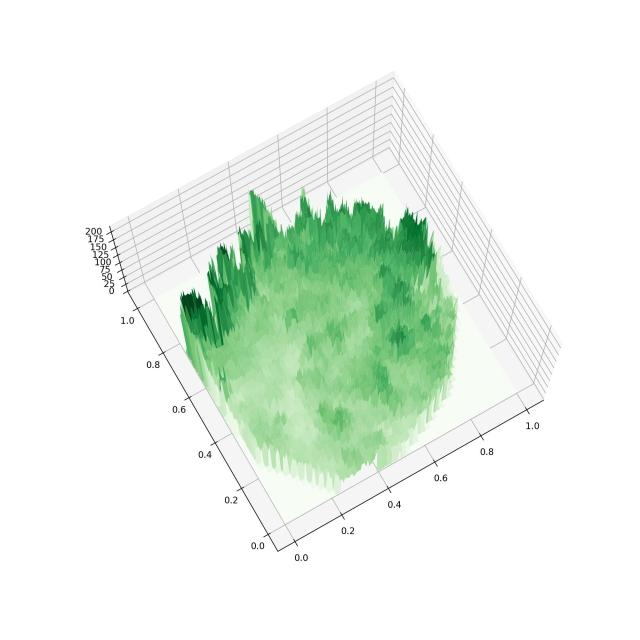spruce: (61, 53, 586, 583)
